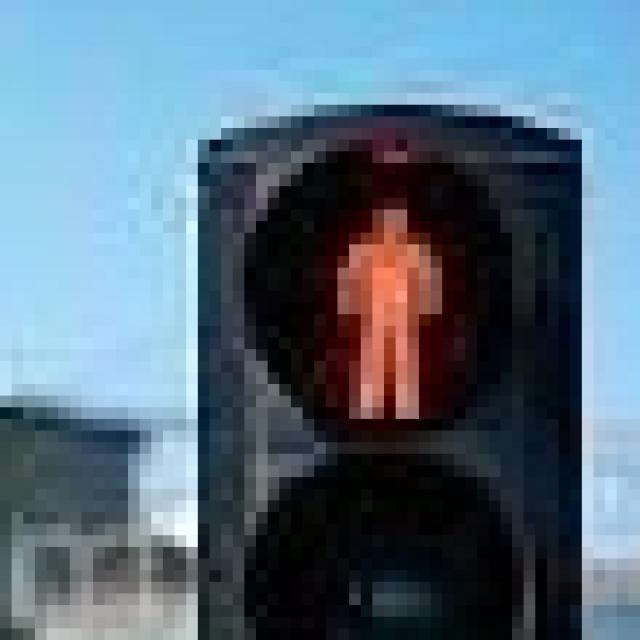red-crossing: (276, 140, 462, 430)
